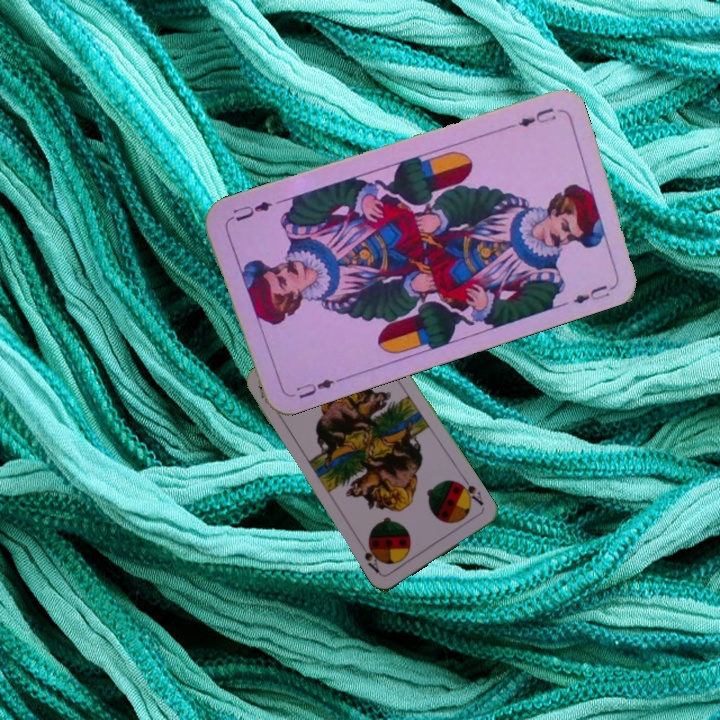EU: (502, 103, 559, 132), (292, 374, 344, 401)
SA: (454, 474, 486, 508)
